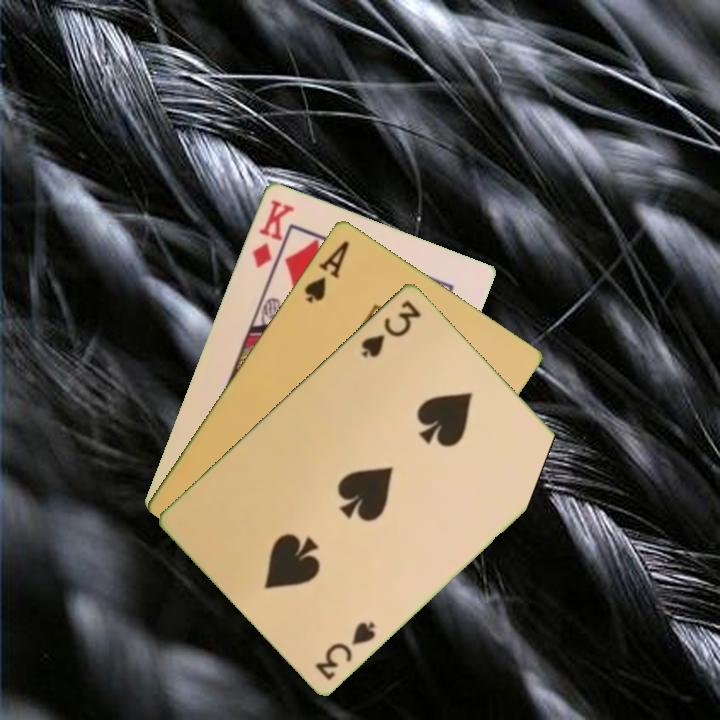3s: (311, 617, 379, 683), (357, 296, 425, 360)
As: (300, 236, 353, 306)
Kd: (248, 195, 297, 271)
